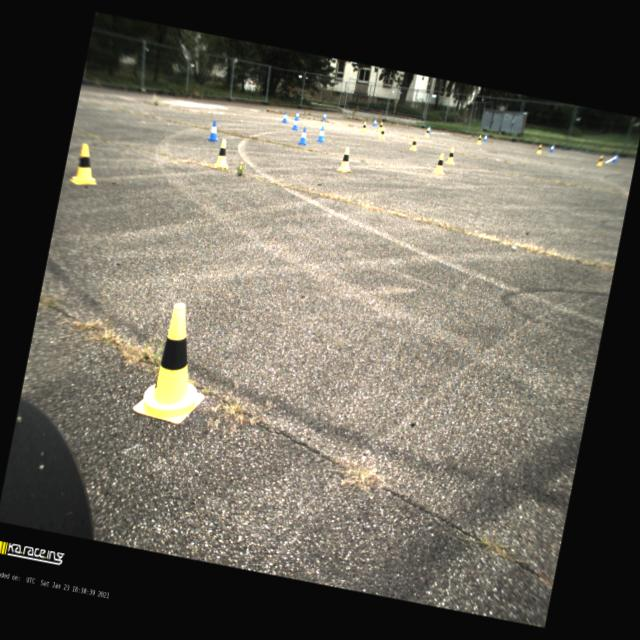blue_cone: (207, 120, 222, 144), (298, 126, 312, 146), (316, 125, 328, 143), (292, 117, 300, 132), (282, 110, 290, 124), (294, 110, 302, 122), (321, 110, 329, 122), (372, 118, 378, 128), (483, 132, 489, 142), (612, 154, 618, 163), (427, 126, 433, 134), (549, 144, 555, 152)
yellow_cone: (131, 298, 221, 428), (69, 142, 104, 188), (212, 138, 234, 171), (336, 146, 356, 174), (432, 152, 448, 176), (444, 146, 458, 166), (408, 135, 419, 152), (596, 154, 606, 167), (359, 120, 368, 134), (378, 126, 387, 140), (536, 144, 544, 156), (376, 121, 384, 132), (424, 127, 431, 138), (476, 134, 483, 145)
